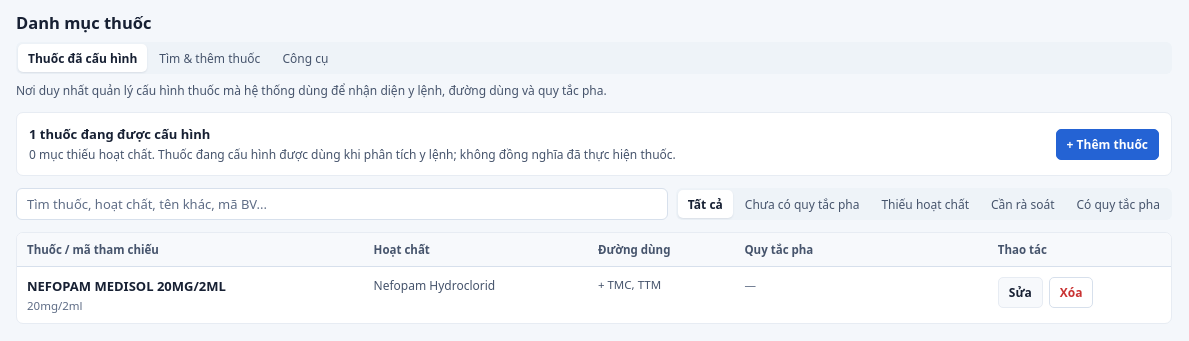
Test: Danh mục thuốc – luồng thống nhất › dọn trùng chỉ tải khi mở công cụ; chưa xác nhận không sửa danh mục
Click the radio button labelled "Công cụ".
click(305, 58)  # box x1=272 y1=44 x2=338 y2=72
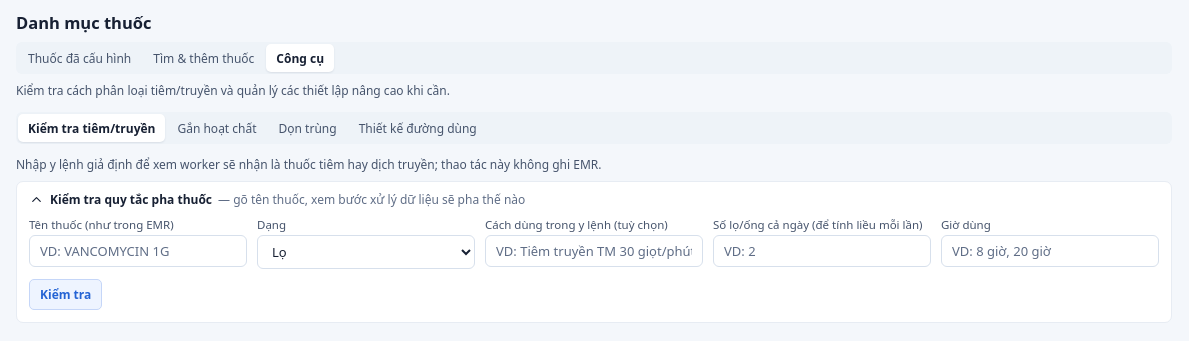
Now the radio button labelled "Dọn trùng" is shown
Click the radio button labelled "Dọn trùng".
click(308, 128)  # box x1=269 y1=114 x2=347 y2=142
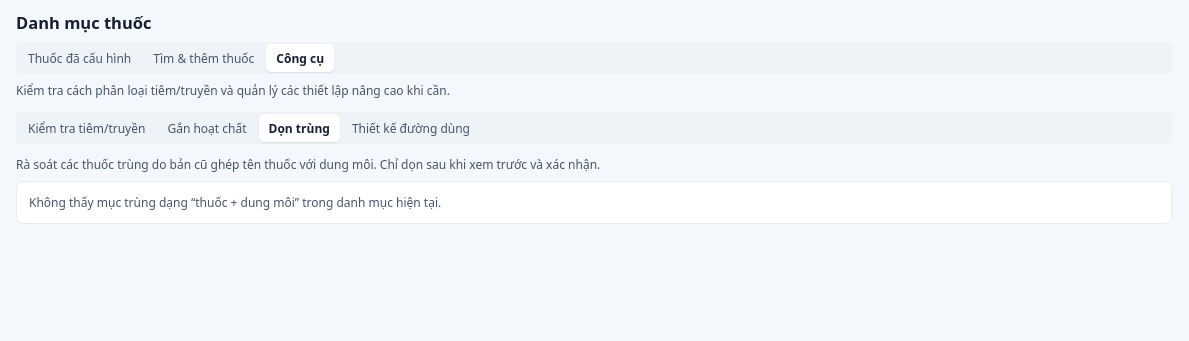
Now the text "Không thấy mục trùng" is shown, box x1=29 y1=194 x2=441 y2=211
